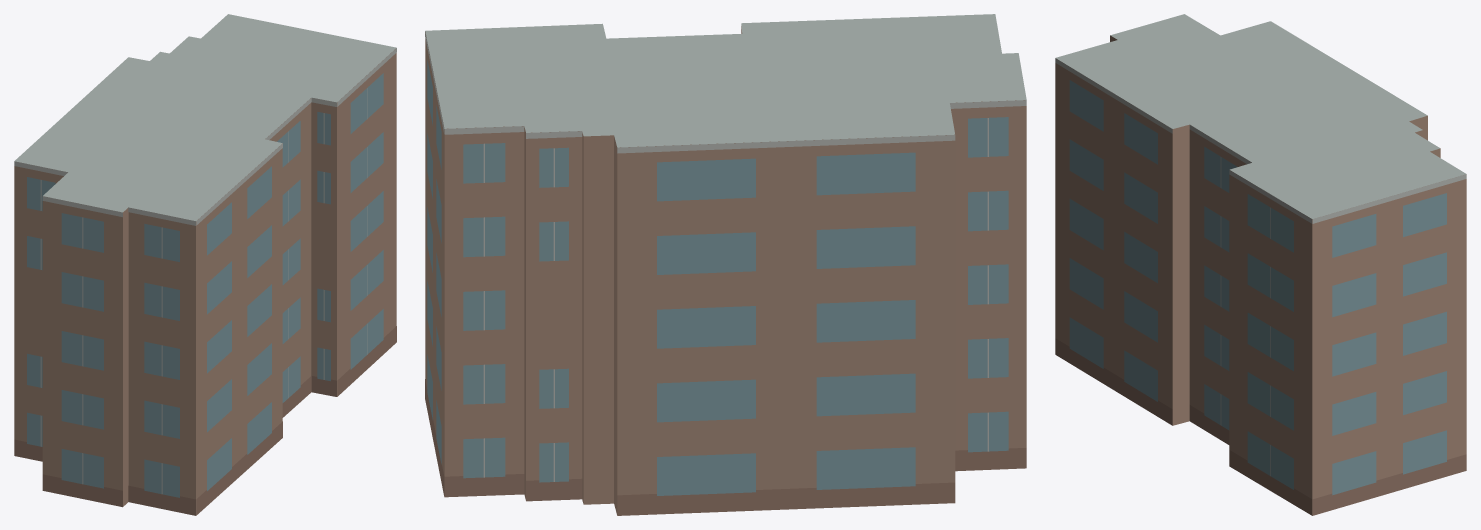
The model's file is survey-upis-32666066.glb.
The picture shows the model from 3 angles, left to right: view 1: azimuth 30°, elevation 25°; view 2: azimuth 150°, elevation 25°; view 3: azimuth 270°, elevation 25°; orthographic projection. The views are drawn at different scales.
Parts seen in each view (by area): view 1: survey-upis-32666066.tmp; view 2: survey-upis-32666066.tmp; view 3: survey-upis-32666066.tmp.
Part boxes in pixels (x1,y1,x2,y2): survey-upis-32666066.tmp: (14,14,396,515); survey-upis-32666066.tmp: (425,14,1026,515); survey-upis-32666066.tmp: (1055,14,1466,515).
Size of the model in its own units: 22.41 by 15.1 by 18.99.
